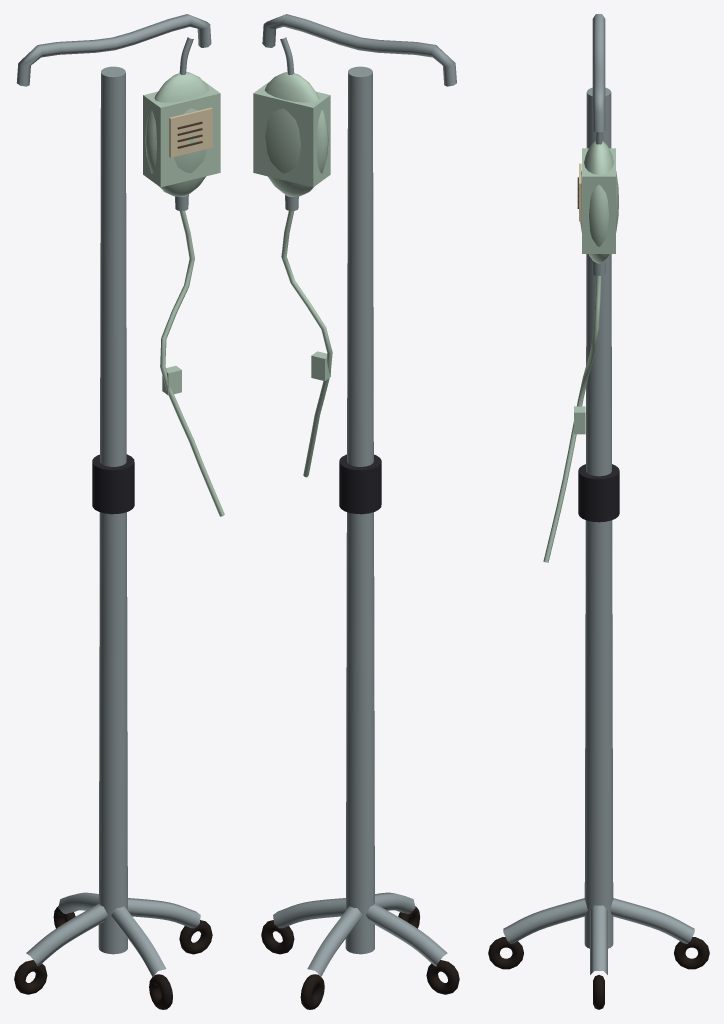
Rendered from mia-iv_stand.glb.
The picture shows the model from 3 angles, left to right: view 1: azimuth 30°, elevation 25°; view 2: azimuth 150°, elevation 25°; view 3: azimuth 270°, elevation 25°; orthographic projection. The views are drawn at different scales.
Parts seen in each view (by area): view 1: Body_steel, Body_iv-bag, Body_black, Body_iron, Body_page-light; view 2: Body_steel, Body_iv-bag, Body_black, Body_iron; view 3: Body_steel, Body_iv-bag, Body_iron, Body_black.
Boxes of the visible parts, bbox=[...] form: Body_steel: bbox=[16, 14, 211, 976]; Body_iv-bag: bbox=[143, 72, 224, 516]; Body_black: bbox=[14, 906, 212, 1009]; Body_iron: bbox=[92, 454, 134, 514]; Body_page-light: bbox=[169, 107, 212, 157]; Body_steel: bbox=[262, 14, 456, 976]; Body_iv-bag: bbox=[253, 72, 332, 477]; Body_black: bbox=[261, 906, 459, 1009]; Body_iron: bbox=[339, 454, 381, 514]; Body_steel: bbox=[503, 14, 694, 974]; Body_iv-bag: bbox=[543, 141, 618, 562]; Body_iron: bbox=[578, 464, 619, 522]; Body_black: bbox=[488, 937, 709, 1009].
Bounding box in the file's own units: 0.429 × 1.91 × 0.418.
